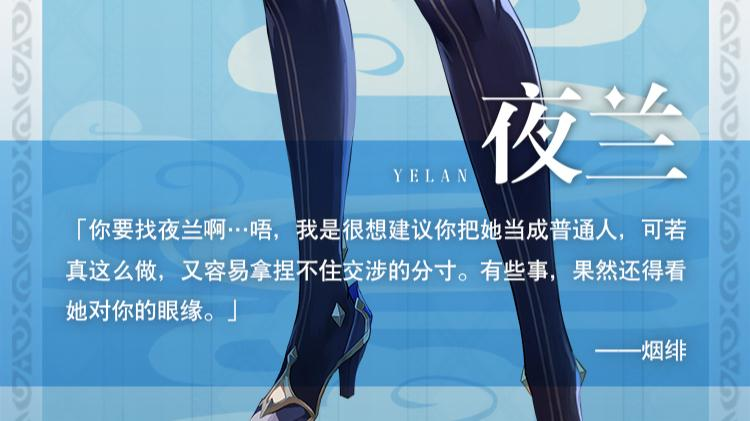夜兰: (242, 1, 586, 419)
